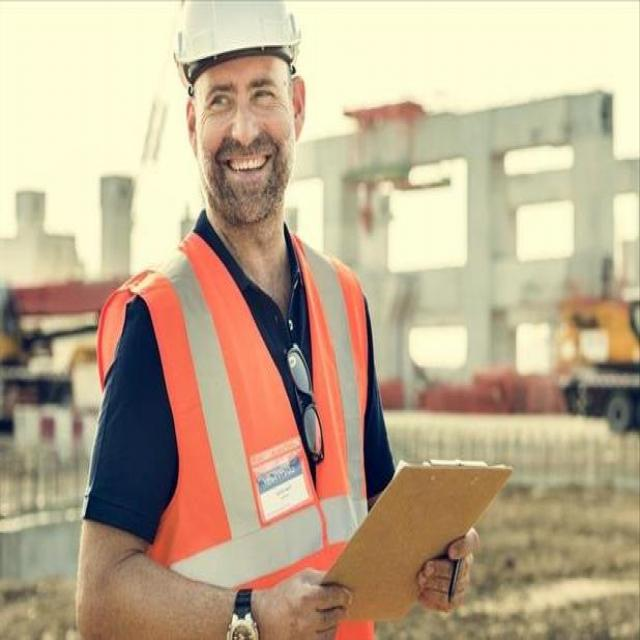Reflective-Jacket: (104, 224, 390, 604)
Safety-Helmet: (165, 0, 312, 79)
